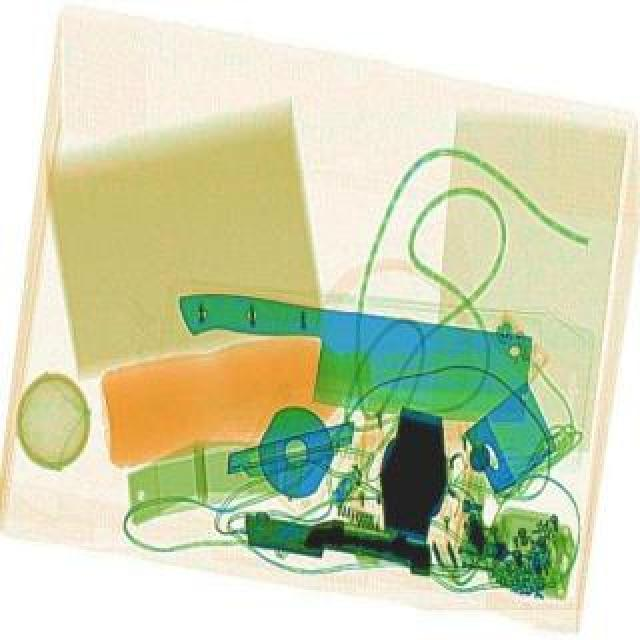knife: (162, 282, 538, 432)
